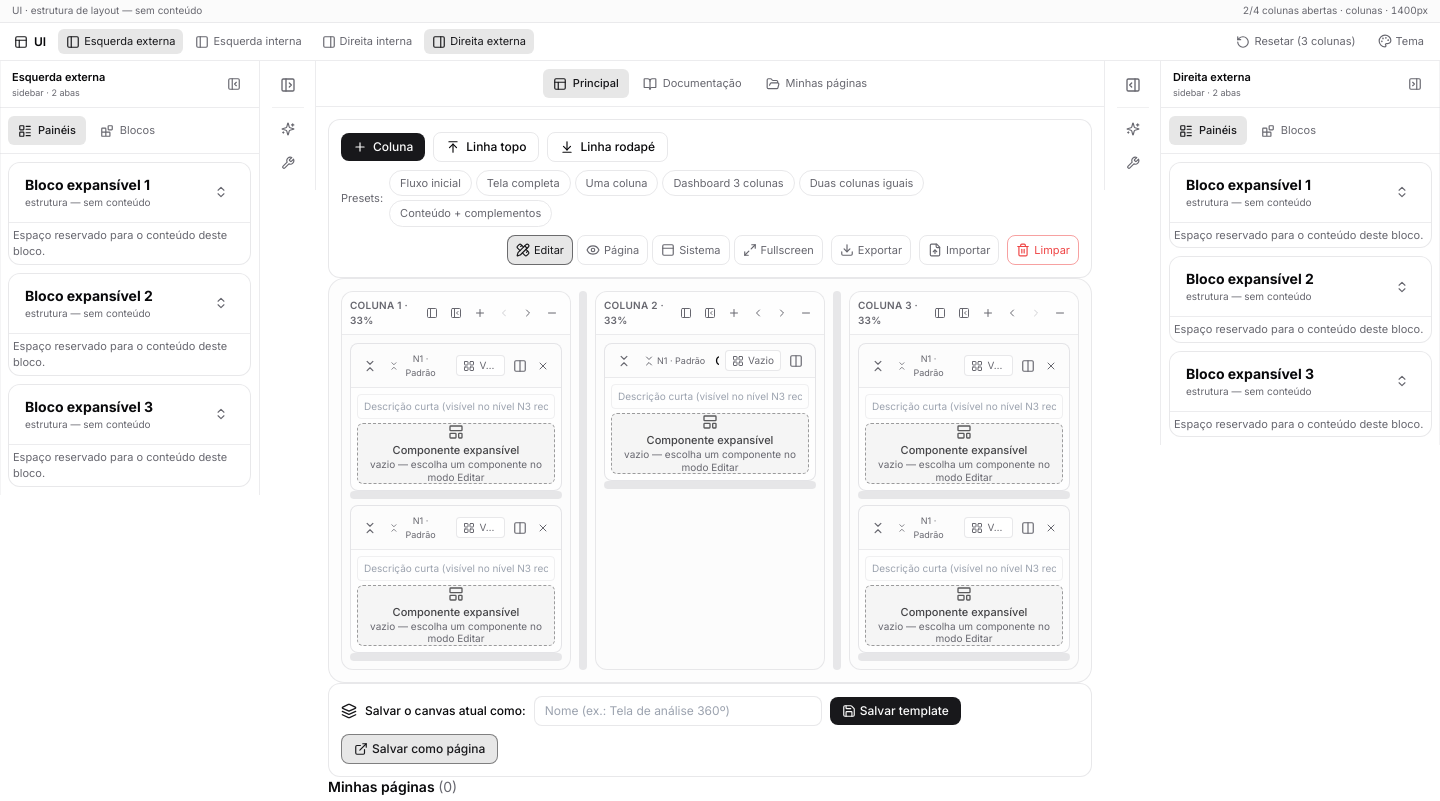
Test: UiShell — toolbar Tema + abas do centro › toolbar tem botão Customizar tema (modos/cor/fonte/motion)
Click the button with aria-label "Customizar tema": (1401, 41) [1370,29,1432,54]
(page scrolled)
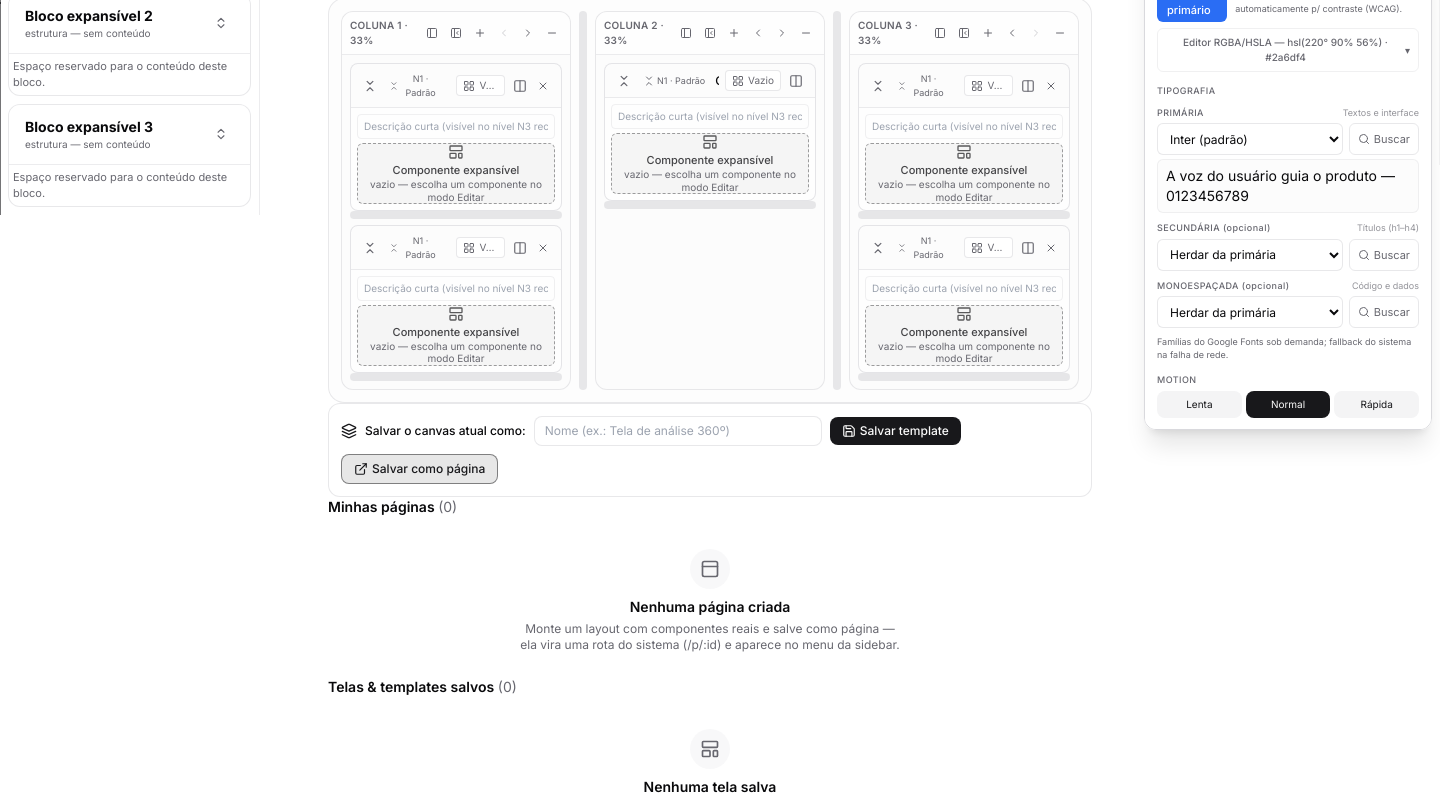
Check: the element named "Velocidade das animações" is shown, box [1157,390,1419,418]
